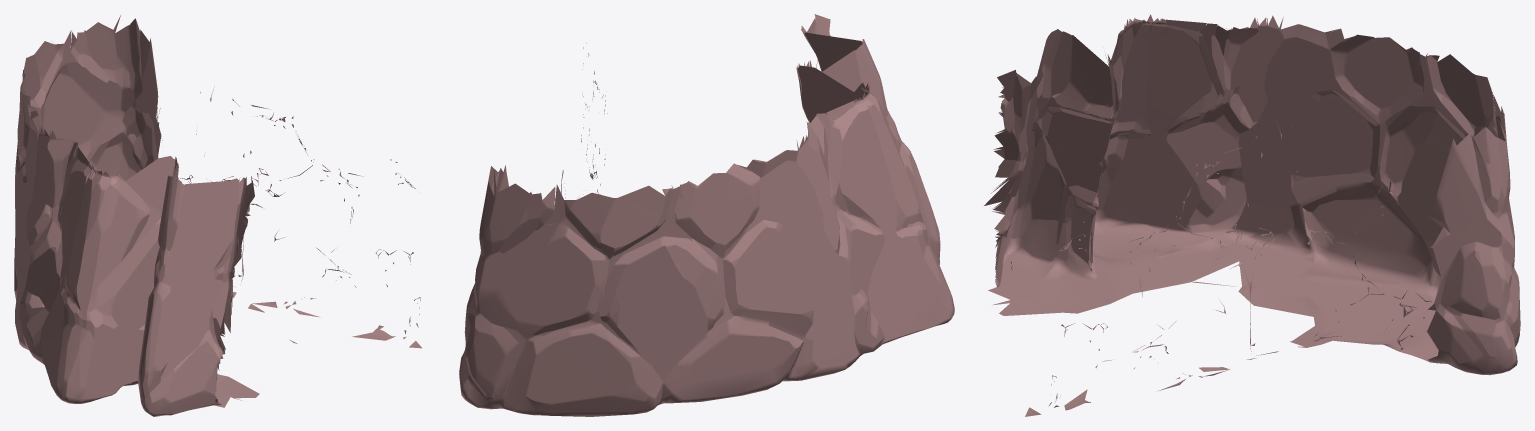
File: canyon.fbx_PolyShape__3__016LODs.fbx
3 views of the same model, side by side, from view 1: azimuth 30°, elevation 25°; view 2: azimuth 150°, elevation 25°; view 3: azimuth 270°, elevation 25° (orthographic). The views are drawn at different scales.
Parts seen in each view (by area): view 1: PolyShape (3).016_LOD0; view 2: PolyShape (3).016_LOD0; view 3: PolyShape (3).016_LOD0.
Boxes of the visible parts, x1,y1,x2,y2 form: PolyShape (3).016_LOD0: [14, 15, 421, 416]; PolyShape (3).016_LOD0: [459, 14, 954, 416]; PolyShape (3).016_LOD0: [984, 14, 1520, 416].
Size of what is drawn, in the model's own units: 3995 by 2445 by 4614.
